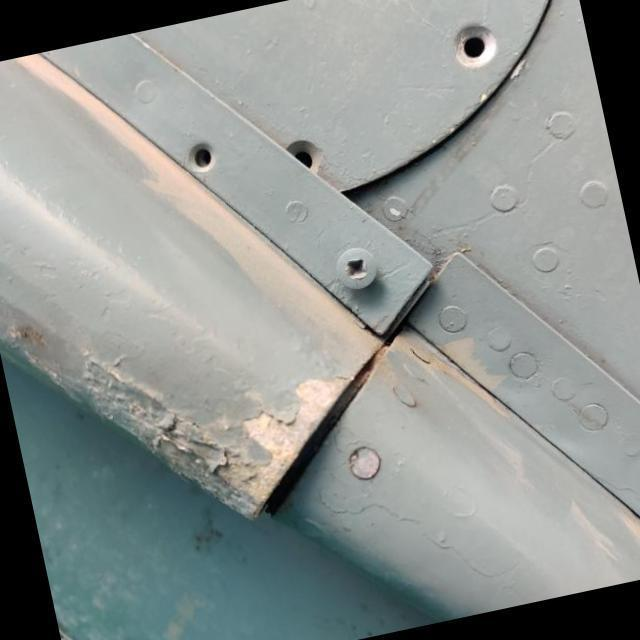Fastener Damage: (255, 111, 347, 206), (432, 3, 518, 88), (162, 122, 236, 196)
